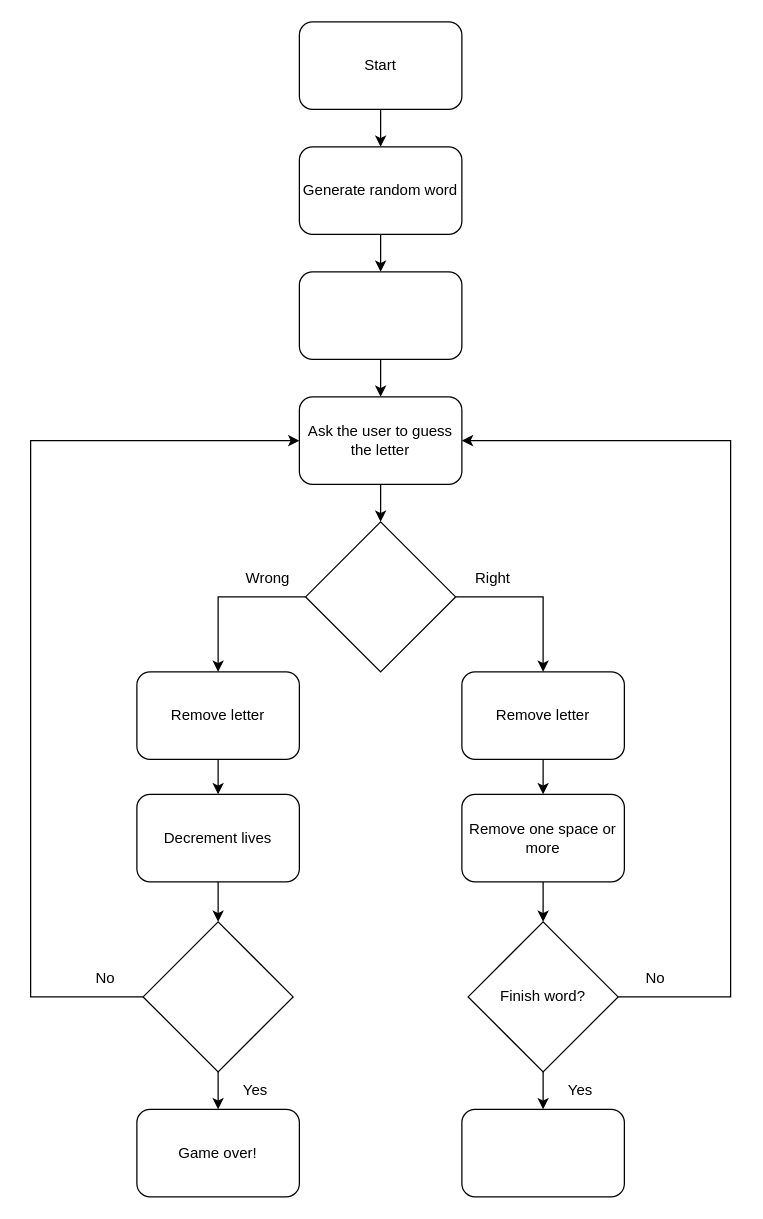
Some shapes in this 763 by 1219 pixel diagram are drawn without their labels. The box of each missing label's shape, as (x1, y1, x2, y2) in pixels:
Generate spaces for letters: (298, 271, 462, 359)
GG, you win!: (461, 1108, 624, 1197)
Is man died?: (142, 921, 293, 1072)
User Choose letter: (304, 521, 456, 672)
